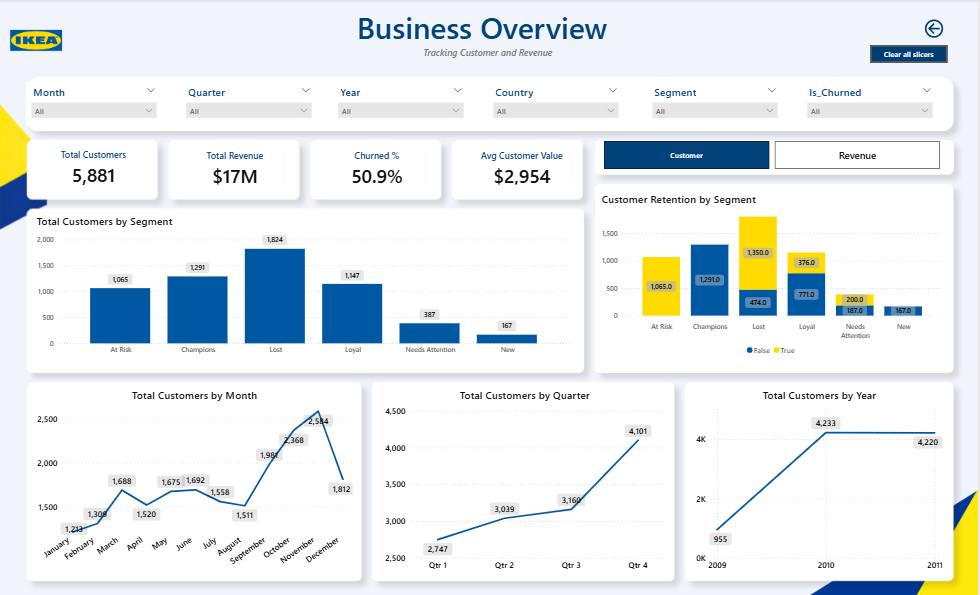

This screenshot's page, from the dashboard's own definition file:
{"tool":"powerbi","page":{"name":"Overview","canvas":[1750,1100],"ordinal":0},"visuals":[{"type":"cardVisual","fields":{"Data":["Sheet1.Total Customers"]},"box":[64,250,212,98],"z":0},{"type":"columnChart","fields":{"Category":["Sheet1.Segment"],"Y":["Sheet1.Total Revenue"]},"box":[68.2,377.3,961.5,260.9],"z":0,"group":"g1"},{"type":"cardVisual","fields":{"Data":["Sheet1.Total Revenue"]},"box":[316,250,212,98],"z":1000},{"type":"pieChart","title":"Revenue Retention by Segment","fields":{"Category":["Sheet1.Segment"],"Series":["Sheet1.Is_Churned"],"Y":["Sheet1.Total Revenue"]},"box":[1077.9,337.2,618.2,301.1],"z":1000,"group":"g1"},{"type":"cardVisual","fields":{"Data":["Sheet1.Churned %"]},"box":[570,250,212,98],"z":2000},{"type":"lineChart","fields":{"Y":["Sheet1.Total Revenue"],"Category":["Sheet1.InvoiceMonth.Variation.Date Hierarchy.Month"]},"box":[68.2,686.5,574.1,337.2],"z":2000,"group":"g1"},{"type":"cardVisual","fields":{"Data":["Sheet1.Avg Customer Value"]},"box":[828,250,212,98],"z":3000},{"type":"lineChart","fields":{"Y":["Sheet1.Total Revenue"],"Category":["Sheet1.InvoiceMonth.Variation.Date Hierarchy.Year"]},"box":[1244.5,686.5,451.6,337.2],"z":3000,"group":"g1"},{"type":"slicer","fields":{"Values":["Sheet1.InvoiceDate.Variation.Date Hierarchy.Month"]},"box":[50.2,146.5,242.9,78.3],"z":4000},{"type":"lineChart","fields":{"Y":["Sheet1.Total Revenue"],"Category":["Sheet1.InvoiceMonth.Variation.Date Hierarchy.Quarter"]},"box":[690.5,686.5,509.9,337.2],"z":4000,"group":"g1"},{"type":"slicer","fields":{"Values":["Sheet1.InvoiceDate.Variation.Date Hierarchy.Quarter"]},"box":[327.2,146.5,242.9,78.3],"z":5000},{"type":"slicer","fields":{"Values":["Sheet1.InvoiceDate.Variation.Date Hierarchy.Year"]},"box":[598.2,146.5,242.9,78.3],"z":6000},{"type":"slicer","fields":{"Values":["Sheet1.Country"]},"box":[875.2,146.5,242.9,78.3],"z":7000},{"type":"slicer","fields":{"Values":["Sheet1.Segment"]},"box":[1158.2,146.5,242.9,78.3],"z":8000},{"type":"slicer","fields":{"Values":["Sheet1.Is_Churned"]},"box":[1435.2,146.5,242.9,78.3],"z":9000},{"type":"group","id":"g1","title":"Revenue","box":[68.2,337.2,1627.9,686.5],"z":11000},{"type":"bookmarkNavigator","box":[1081.9,250.9,600.2,50.2],"z":12000},{"type":"image","box":[0,32.1,136.5,80.3],"z":13000},{"type":"textbox","box":[635.1,8,479.7,94.3],"z":14000},{"type":"actionButton","box":[1650,28.1,46.2,44.2],"z":15000},{"type":"actionButton","box":[1557.7,80.3,138.5,32.1],"z":16000},{"type":"textbox","box":[588,78.3,574.1,46.2],"z":17000}]}

Visuals, with their boxes on the page's 1750x1100 design canvas (x1, y1, x2, y2). These are canvas units, not pixel positions in the 980x595 screenshot, which may show the page scaled, cropped or inside an application window:
cardVisual - Sheet1.Total Customers: (x1=64, y1=250, x2=276, y2=348)
columnChart - Sheet1.Segment x Sheet1.Total Revenue: (x1=68, y1=377, x2=1030, y2=638)
cardVisual - Sheet1.Total Revenue: (x1=316, y1=250, x2=528, y2=348)
"Revenue Retention by Segment" pieChart: (x1=1078, y1=337, x2=1696, y2=638)
cardVisual - Sheet1.Churned %: (x1=570, y1=250, x2=782, y2=348)
lineChart - Sheet1.Total Revenue x Sheet1.InvoiceMonth.Variation.Date Hierarchy.Month: (x1=68, y1=686, x2=642, y2=1024)
cardVisual - Sheet1.Avg Customer Value: (x1=828, y1=250, x2=1040, y2=348)
lineChart - Sheet1.Total Revenue x Sheet1.InvoiceMonth.Variation.Date Hierarchy.Year: (x1=1244, y1=686, x2=1696, y2=1024)
slicer - Sheet1.InvoiceDate.Variation.Date Hierarchy.Month: (x1=50, y1=146, x2=293, y2=225)
lineChart - Sheet1.Total Revenue x Sheet1.InvoiceMonth.Variation.Date Hierarchy.Quarter: (x1=690, y1=686, x2=1200, y2=1024)
slicer - Sheet1.InvoiceDate.Variation.Date Hierarchy.Quarter: (x1=327, y1=146, x2=570, y2=225)
slicer - Sheet1.InvoiceDate.Variation.Date Hierarchy.Year: (x1=598, y1=146, x2=841, y2=225)
slicer - Sheet1.Country: (x1=875, y1=146, x2=1118, y2=225)
slicer - Sheet1.Segment: (x1=1158, y1=146, x2=1401, y2=225)
slicer - Sheet1.Is_Churned: (x1=1435, y1=146, x2=1678, y2=225)
"Revenue" group: (x1=68, y1=337, x2=1696, y2=1024)
bookmarkNavigator: (x1=1082, y1=251, x2=1682, y2=301)
image: (x1=0, y1=32, x2=136, y2=112)
textbox: (x1=635, y1=8, x2=1115, y2=102)
actionButton: (x1=1650, y1=28, x2=1696, y2=72)
actionButton: (x1=1558, y1=80, x2=1696, y2=112)
textbox: (x1=588, y1=78, x2=1162, y2=124)
